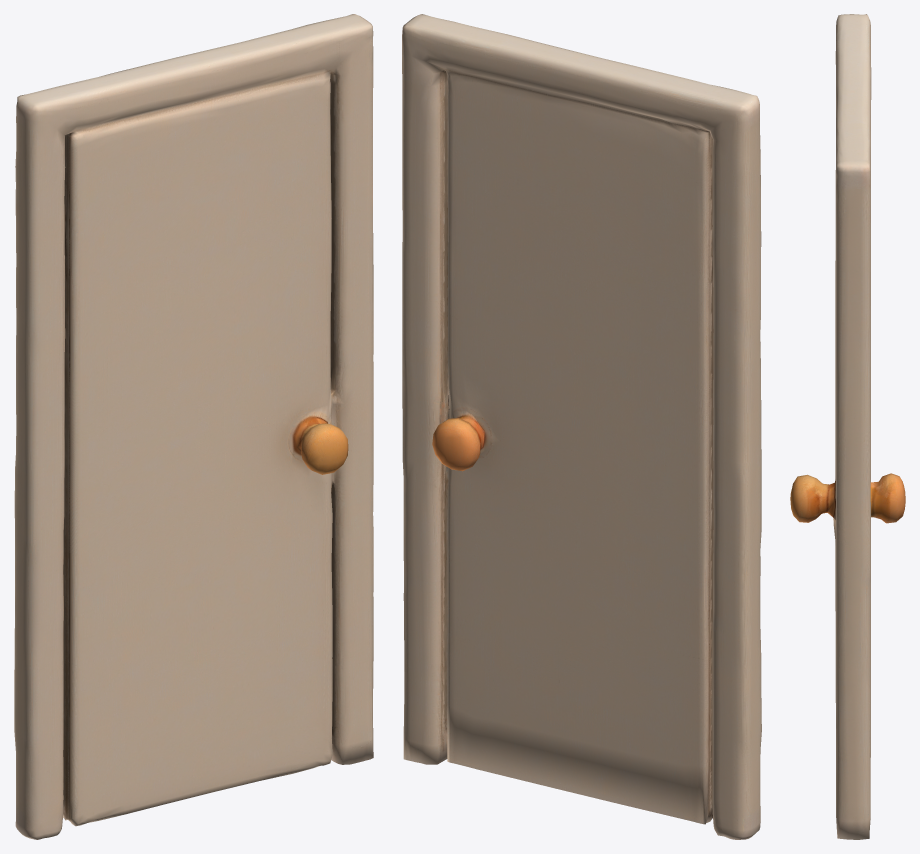
The model's file is house_mod_door.glb.
3 views of the same model, side by side, from view 1: azimuth 30°, elevation 25°; view 2: azimuth 150°, elevation 25°; view 3: azimuth 270°, elevation 25° (orthographic). The views are drawn at different scales.
Size of the model in its own units: 0.9867 by 2 by 0.3095.
1 material, 1 textured.
